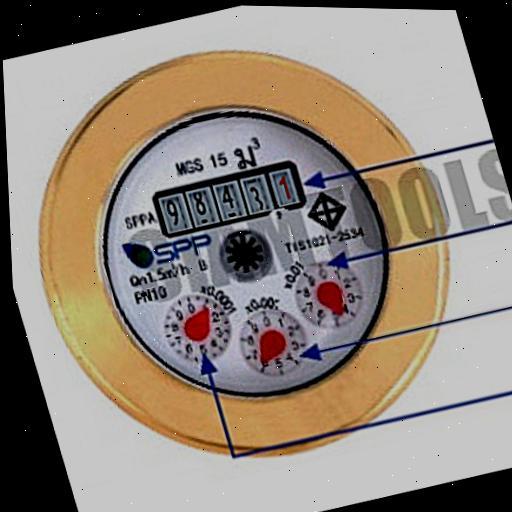1: (274, 172, 298, 205)
3: (246, 179, 269, 214)
4: (216, 184, 242, 220)
8: (189, 191, 214, 228)
9: (162, 197, 188, 233)
border_water_meter_number: (149, 156, 311, 243)
